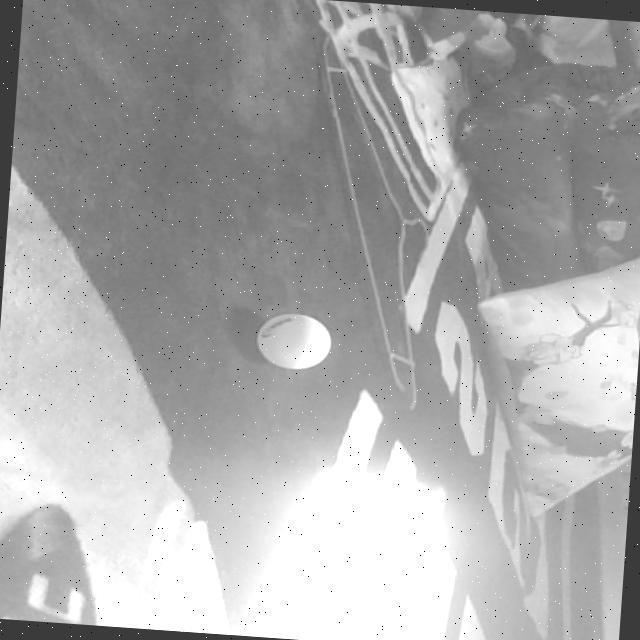ping-pong-ball: (255, 312, 329, 370)
